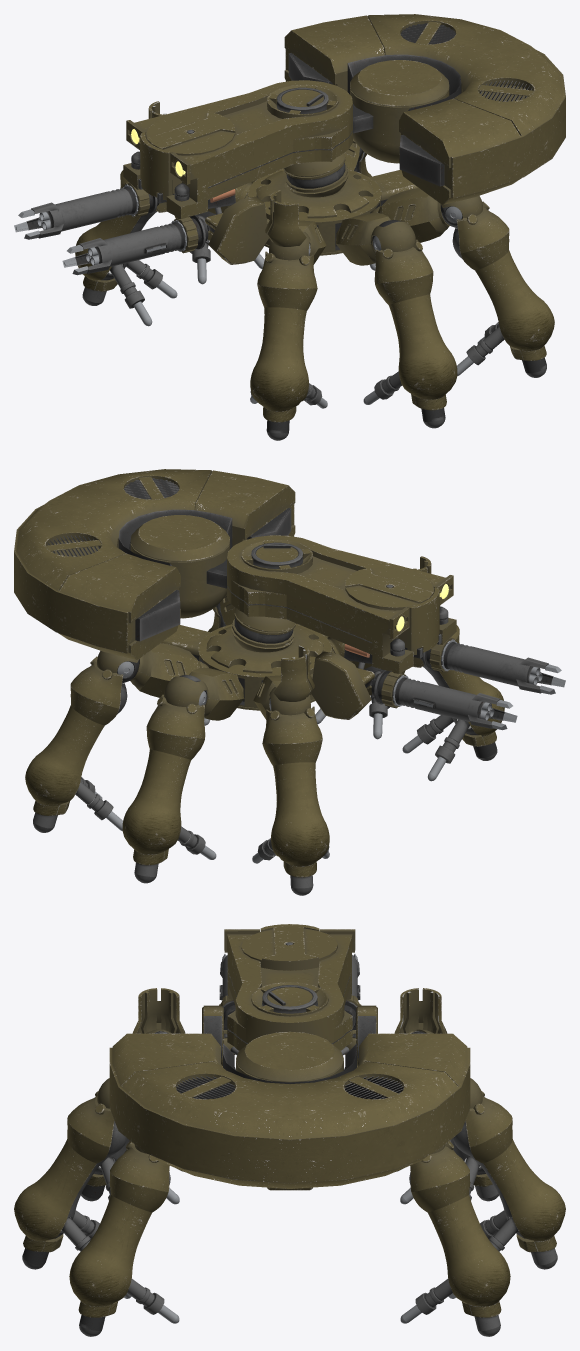
The model's file is Hexapod.gltf.
The picture shows the model from 3 angles, top to bottom: view 1: azimuth 30°, elevation 25°; view 2: azimuth 150°, elevation 25°; view 3: azimuth 270°, elevation 25°; orthographic projection. The views are drawn at different scales.
Visible parts, largest first — view 1: Object_3, Object_4, Object_2; view 2: Object_3, Object_4, Object_2; view 3: Object_3, Object_4, Object_2.
Part boxes in pixels (<box>): Object_3: <box>205,14,565,255</box>; Object_4: <box>75,101,554,440</box>; Object_2: <box>14,80,352,275</box>; Object_3: <box>14,469,374,710</box>; Object_4: <box>25,556,504,895</box>; Object_2: <box>227,535,565,730</box>; Object_3: <box>109,1031,470,1190</box>; Object_4: <box>14,988,565,1336</box>; Object_2: <box>202,924,377,1065</box>.
Bounding box in the file's own units: 3.58 × 1.7 × 3.17.
Materials: 3 (3 with a texture image).
